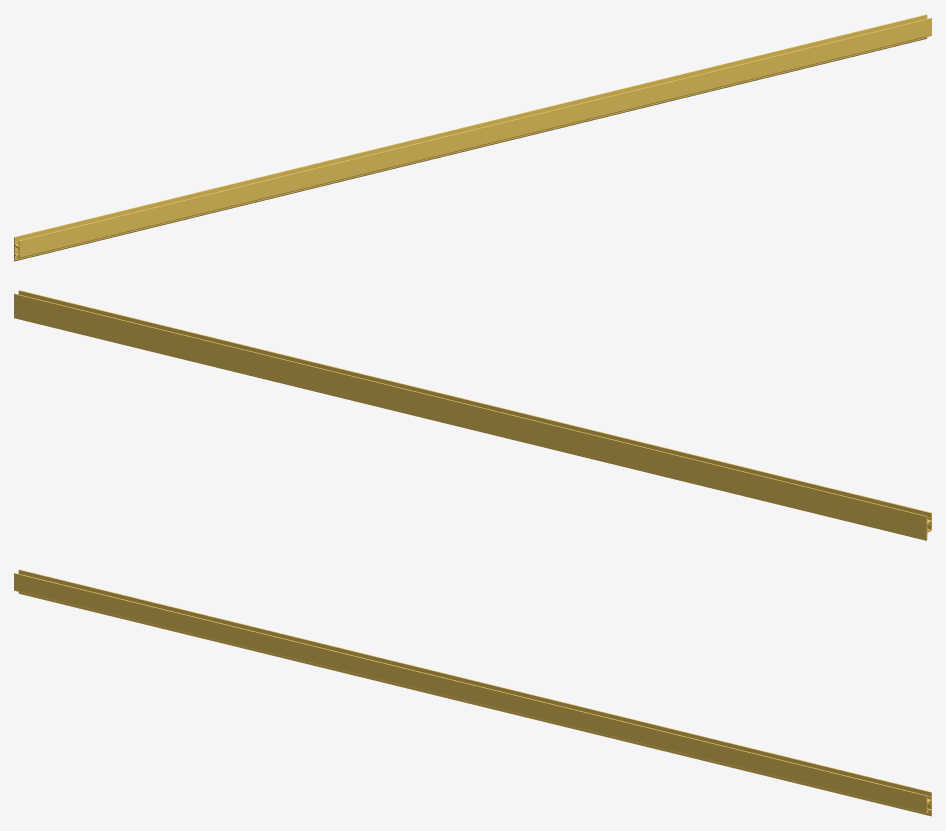
Rendered from original-27.obj.
The picture shows the model from 3 angles, top to bottom: view 1: azimuth 30°, elevation 25°; view 2: azimuth 150°, elevation 25°; view 3: azimuth 330°, elevation 25°; orthographic projection.
Parts seen in each view (by area): view 1: trr1/trr/mesh14/mesh14-geometry#mesh14-geometry; view 2: trr1/trr/mesh14/mesh14-geometry#mesh14-geometry; view 3: trr1/trr/mesh14/mesh14-geometry#mesh14-geometry.
Boxes of the visible parts, x1,y1,x2,y2 form: trr1/trr/mesh14/mesh14-geometry#mesh14-geometry: (14,14,931,261); trr1/trr/mesh14/mesh14-geometry#mesh14-geometry: (14,290,931,540); trr1/trr/mesh14/mesh14-geometry#mesh14-geometry: (14,569,931,816).
Size of the model in its own units: 1.03 by 0.0261 by 0.0105.
